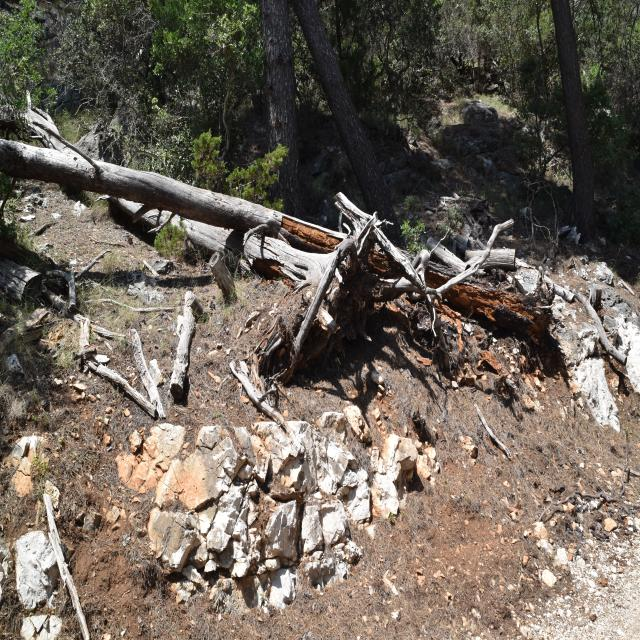entulho: (519, 347, 577, 411)
restos de madeira: (460, 264, 567, 354), (292, 238, 356, 356), (1, 139, 106, 201), (90, 162, 204, 219), (113, 326, 165, 417), (186, 188, 281, 236), (576, 288, 628, 360), (394, 242, 436, 312), (169, 306, 196, 392), (429, 257, 484, 299), (21, 105, 66, 144), (333, 192, 372, 230), (352, 211, 379, 260), (208, 255, 238, 298), (376, 276, 427, 300), (468, 247, 516, 271), (537, 273, 575, 303), (481, 219, 515, 250), (132, 202, 169, 228), (74, 250, 108, 277), (65, 268, 77, 314)
